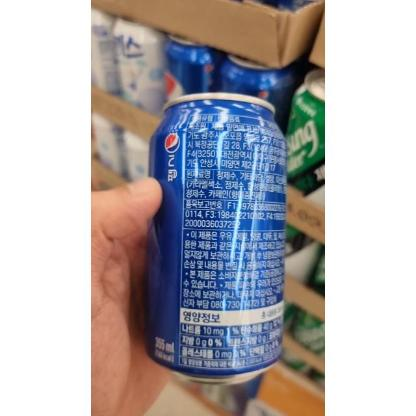Can: (141, 88, 289, 390)
